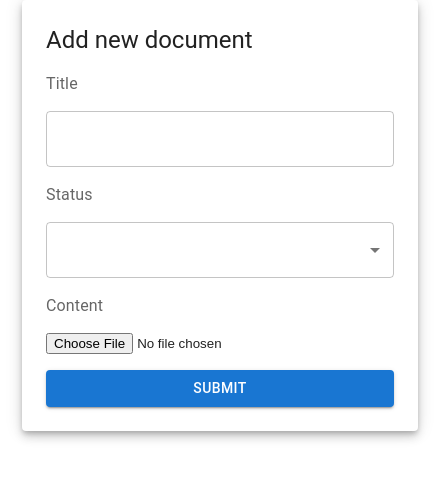
Test: AddDocument › Should display all fields req error when not all fields filled
The width and height of the screenshot is (441, 494).
Click the button with test id "submit_button" at (220, 388), box [46,370,394,406]
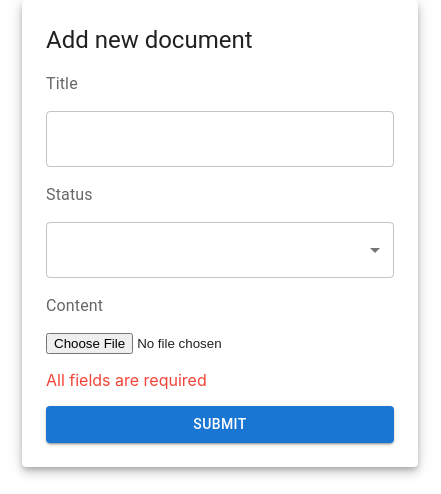
Result: the text "All fields are required" is shown at [46,370,207,390]
